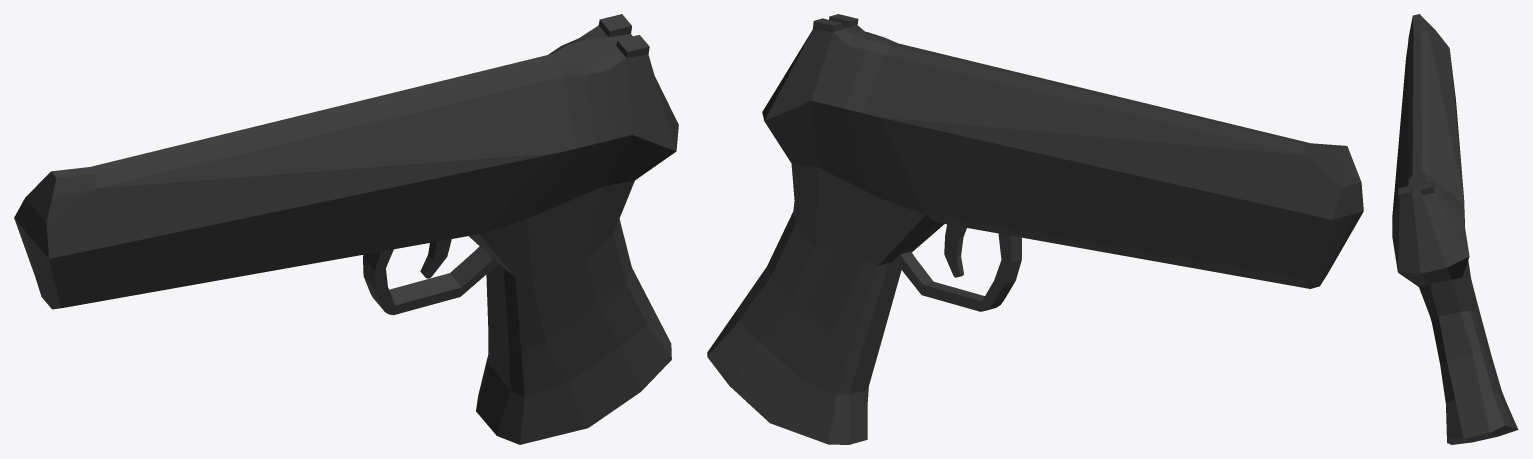
File: gun-ver-5-color-1.glb
3 renders of one model, left to right at view 1: azimuth 30°, elevation 25°; view 2: azimuth 150°, elevation 25°; view 3: azimuth 270°, elevation 25°, orthographic. The views are drawn at different scales.
Visible parts, largest first — view 1: Cube, Cube.002, Cube.001; view 2: Cube, Cube.002, Cube.001; view 3: Cube.
Boxes of the visible parts, x1=… form: Cube: x1=14, y1=14, x2=678, y2=444; Cube.002: x1=363, y1=246, x2=498, y2=315; Cube.001: x1=420, y1=239, x2=451, y2=278; Cube: x1=707, y1=14, x2=1363, y2=444; Cube.002: x1=894, y1=233, x2=1021, y2=311; Cube.001: x1=944, y1=224, x2=966, y2=277; Cube: x1=1392, y1=14, x2=1518, y2=444.
Size of the model in its own units: 17.95 by 10.97 by 4.67.
Materials: 2 (2 with a texture image).
